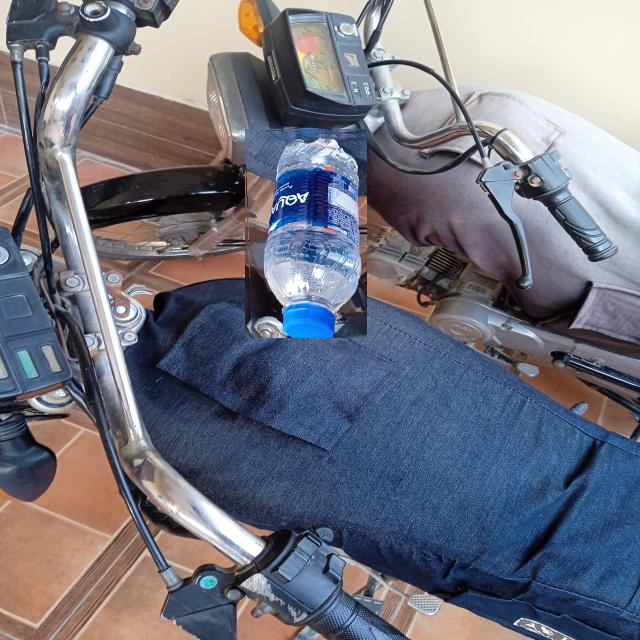Plastic: (244, 128, 367, 338)
